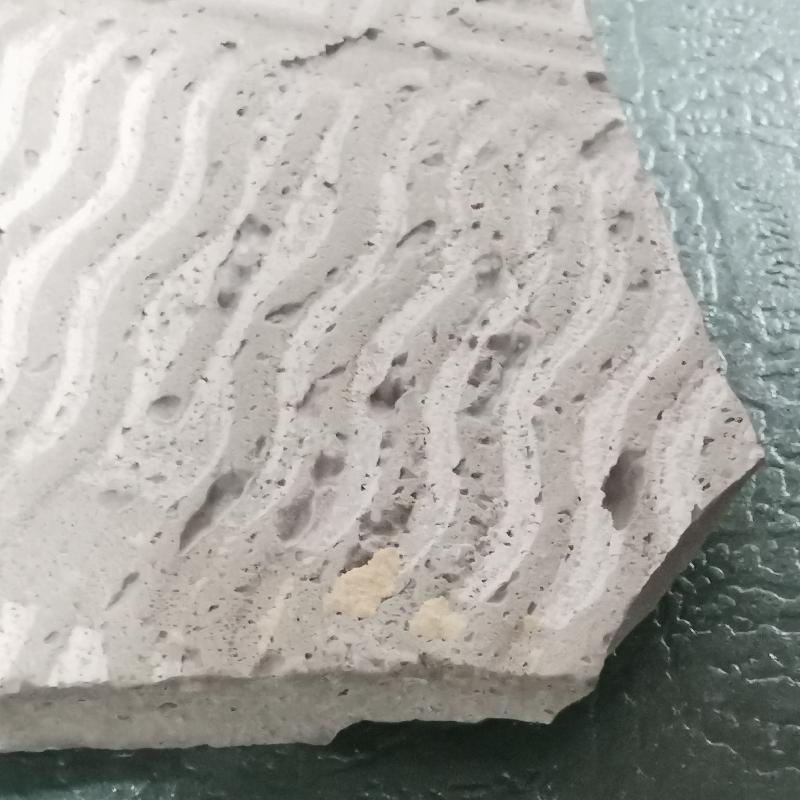tile: (6, 0, 768, 750)
